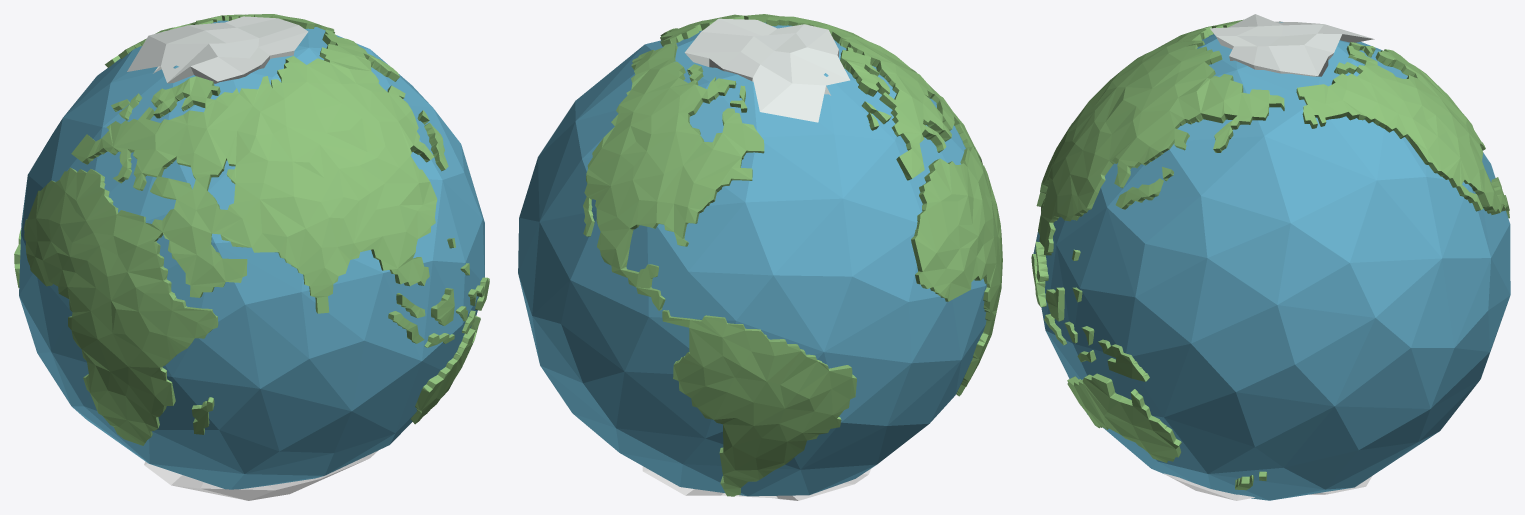
File: earth.fbx
3 views of the same model, side by side, from view 1: azimuth 30°, elevation 25°; view 2: azimuth 150°, elevation 25°; view 3: azimuth 270°, elevation 25° (orthographic). The views are drawn at different scales.
Parts seen in each view (by area): view 1: Land_, Oceans, Cube, Cube.001; view 2: Oceans, Land_, Cube, Cube.001; view 3: Oceans, Land_, Cube, Cube.001.
Part boxes in pixels (left/top/right/bottom): Land_: left=14, top=14, right=489, bottom=445; Oceans: left=19, top=20, right=484, bottom=489; Cube: left=127, top=16, right=308, bottom=83; Cube.001: left=144, top=450, right=378, bottom=500; Oceans: left=518, top=22, right=986, bottom=496; Land_: left=583, top=14, right=1002, bottom=496; Cube: left=684, top=18, right=849, bottom=122; Cube.001: left=642, top=466, right=871, bottom=500; Oceans: left=1033, top=22, right=1510, bottom=500; Land_: left=1031, top=19, right=1509, bottom=490; Cube: left=1210, top=14, right=1374, bottom=76; Cube.001: left=1164, top=473, right=1372, bottom=500.
Size of the model in its own units: 208 by 209 by 207.
